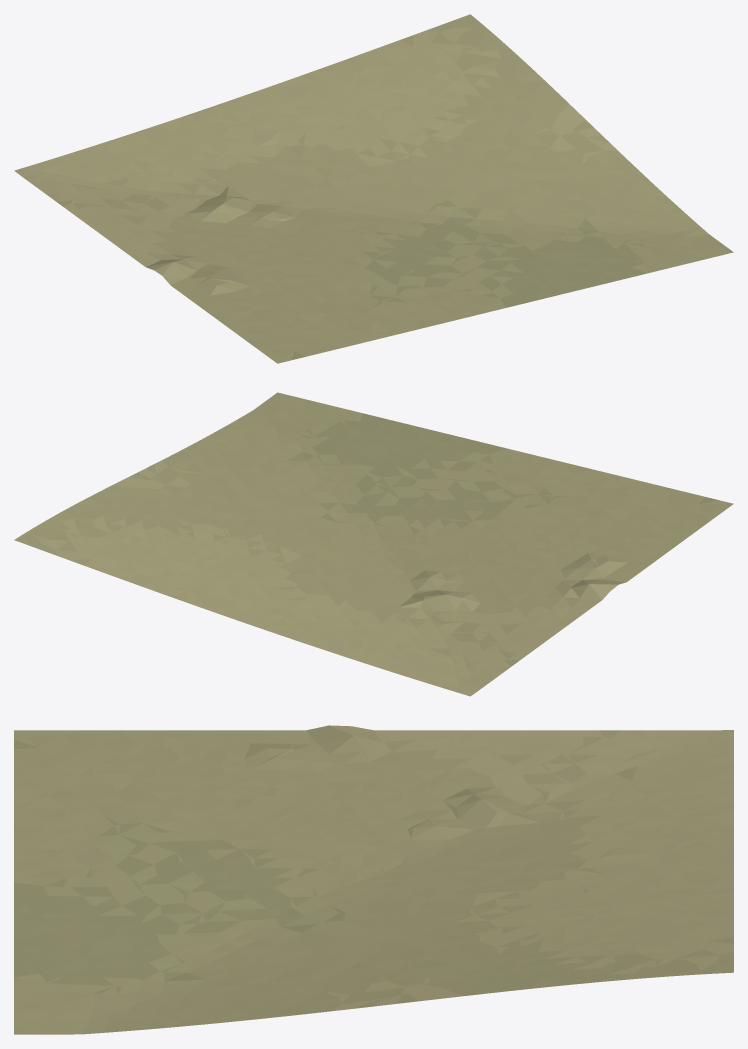
Rendered from Ground_-5_-10.glb.
3 renders of one model, top to bottom at view 1: azimuth 30°, elevation 25°; view 2: azimuth 150°, elevation 25°; view 3: azimuth 270°, elevation 25°, orthographic. The views are drawn at different scales.
Parts seen in each view (by area): view 1: Ground_-5_-10; view 2: Ground_-5_-10; view 3: Ground_-5_-10.
Part boxes in pixels (bbox=[...]): Ground_-5_-10: bbox=[14, 14, 733, 363]; Ground_-5_-10: bbox=[14, 392, 733, 696]; Ground_-5_-10: bbox=[14, 725, 733, 1034].
Bounding box in the file's own units: 768 × 72.76 × 768.
